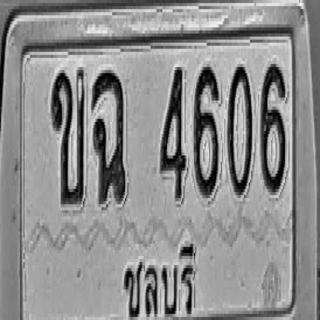A02: (50, 67, 85, 204)
A09: (91, 70, 126, 204)
N00: (227, 62, 252, 196)
N04: (160, 64, 186, 201)
N06: (193, 64, 219, 198), (260, 61, 285, 192)
P13: (118, 235, 196, 320)
